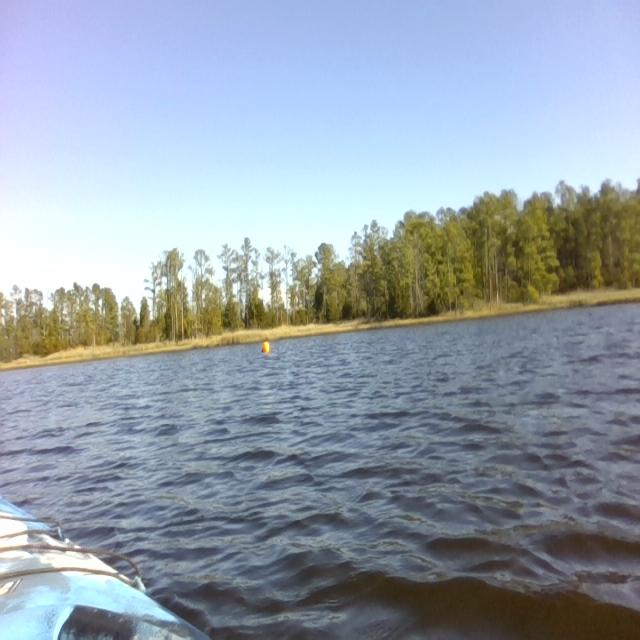Buoy: (257, 337, 276, 359)
